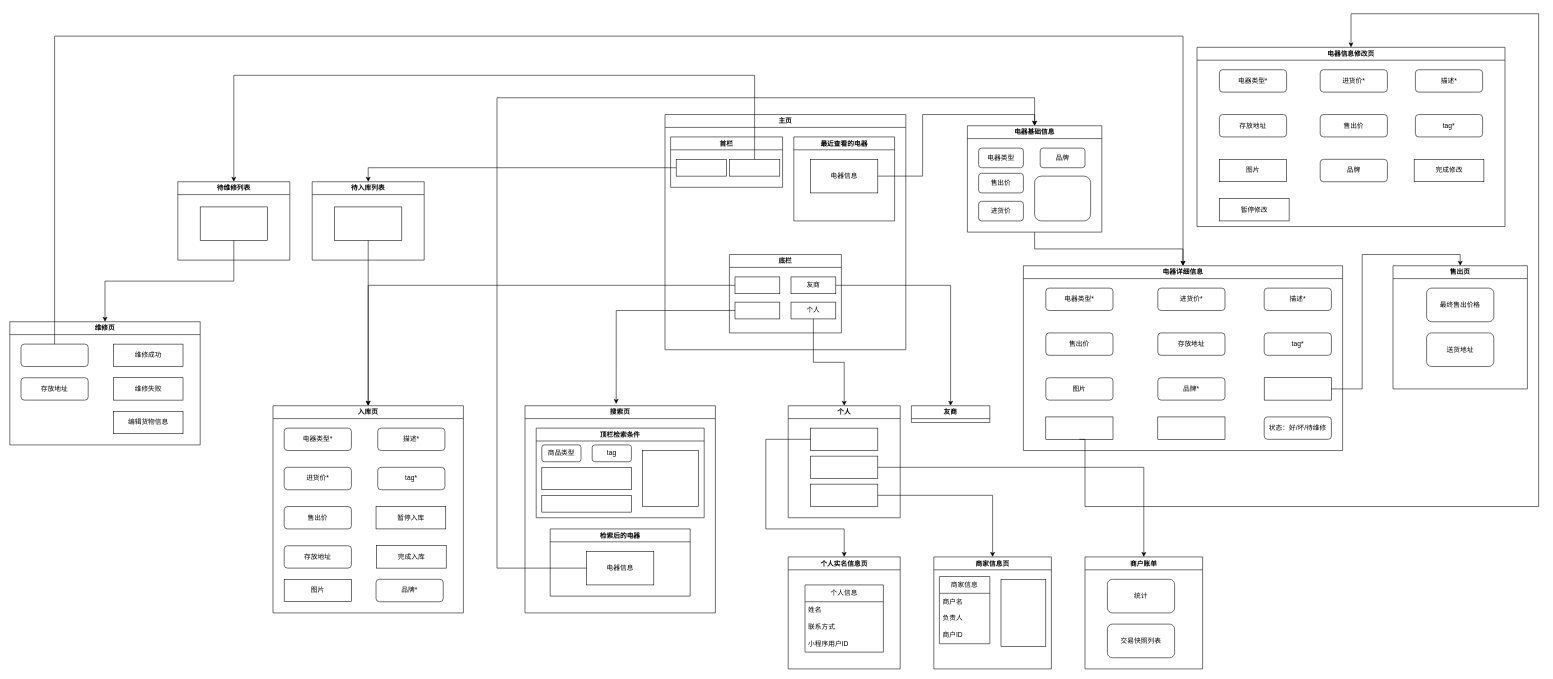
Image size: 1553x679. Some labels were removed from this diagram. Each missing label, with the centre of its shape:
个人实名信息: the point at 844,439
修改: the point at 1079,427
入库: the point at 757,285
加入的商家信息: the point at 844,495
售出: the point at 1297,388
待入库电器信息: the point at 368,223
待维修电器: the point at 754,167
待维修电器信息: the point at 233,223
描述: the point at 1062,198
搜索: the point at 757,310
未完成入库电器: the point at 701,167
账单: the point at 844,467
货物信息: the point at 54,355
通过价格区间搜索 可选：进货价/售出价: the point at 586,478
通过商品ID查找: the point at 670,478
通过商户ID 加入商户: the point at 1023,613
通过检索条件搜索: the point at 586,503
锁定: the point at 1191,427
